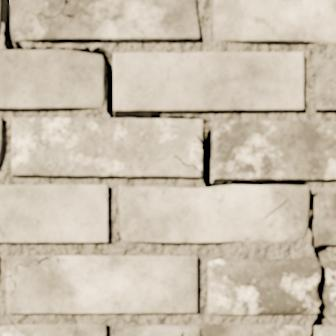brick: (114, 53, 303, 112), (12, 118, 201, 177), (7, 256, 196, 313), (119, 186, 307, 242), (12, 0, 199, 41), (214, 122, 335, 180), (0, 185, 107, 242), (0, 51, 103, 110), (214, 0, 335, 43), (121, 324, 305, 335), (0, 325, 105, 335), (315, 59, 335, 111), (319, 188, 335, 245), (319, 327, 335, 335), (0, 117, 2, 165)
broken_brick: (207, 256, 319, 314), (332, 259, 335, 316)
crack: (0, 0, 334, 335), (6, 255, 60, 296), (19, 0, 75, 30)
